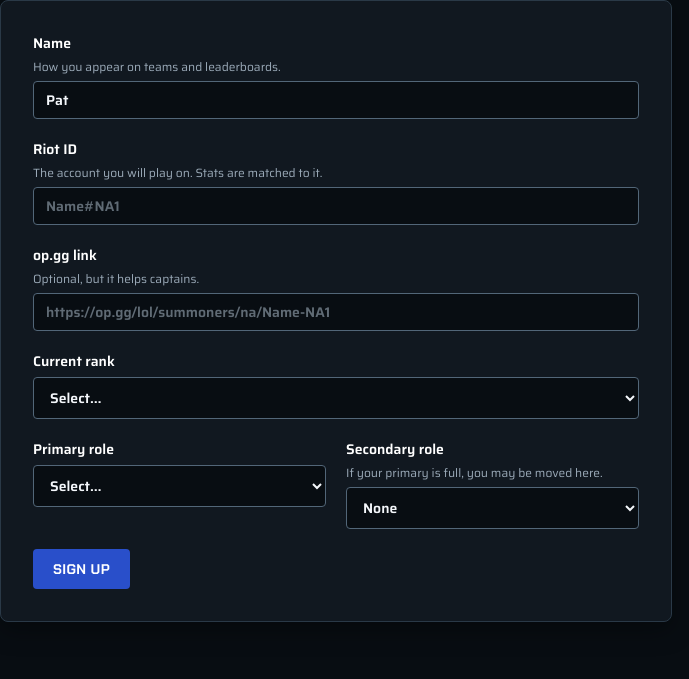
Test: OffseasonSignupForm › shows the server's reason when the sign-up is refused
The width and height of the screenshot is (689, 679).
Type "Pat Doe#NA1" into the field labelled "Riot ID" at (336, 206), box [33,187,639,225]
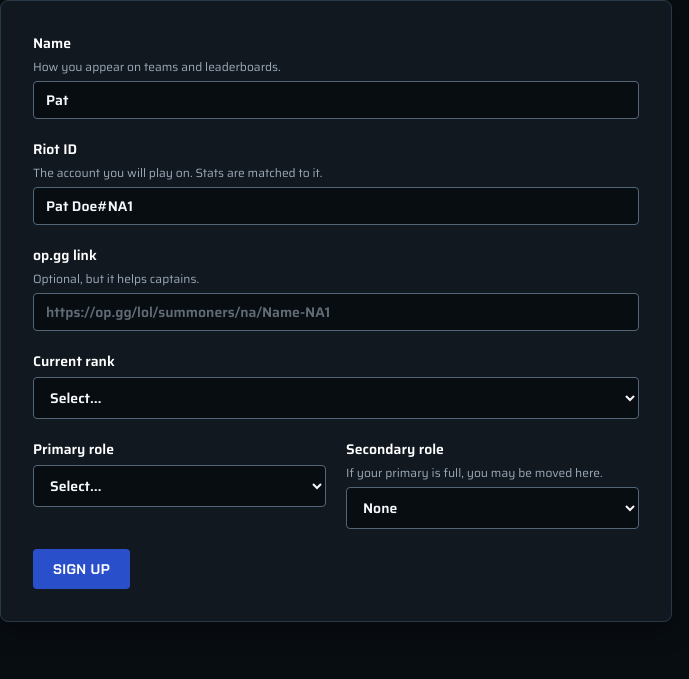
Select "Gold 2" in the dropdown labelled "Current rank" at (336, 398), box [33,377,639,419]
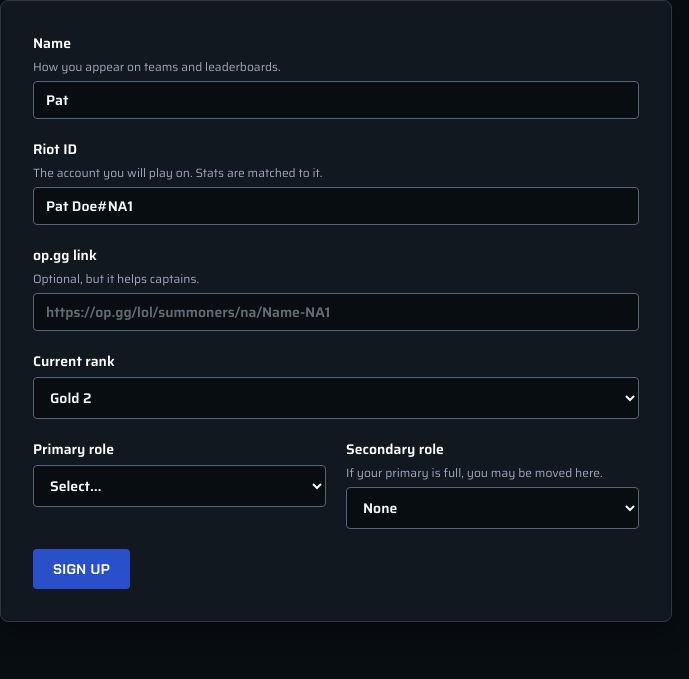
Select "Mid" in the dropdown labelled "Primary role" at (180, 486), box [33,465,326,507]
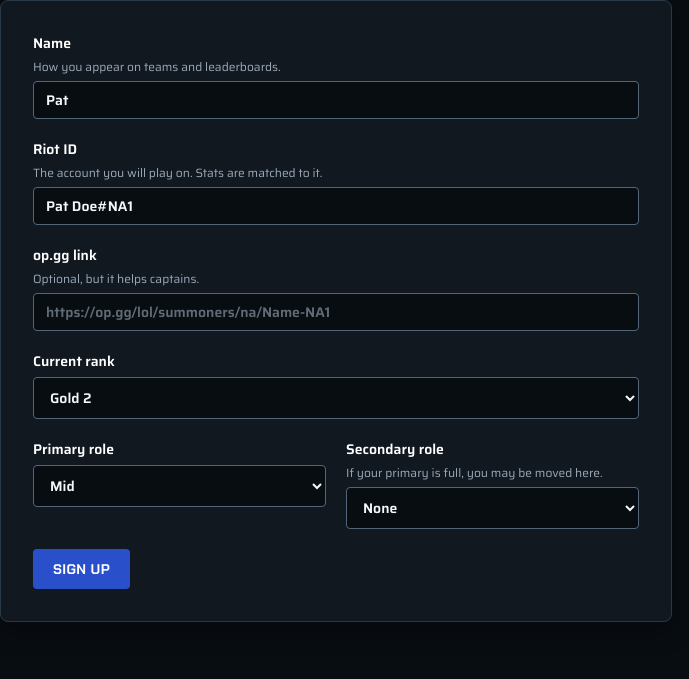
Select "Top" in the dropdown labelled "Secondary role" at (492, 508), box [346,487,639,529]
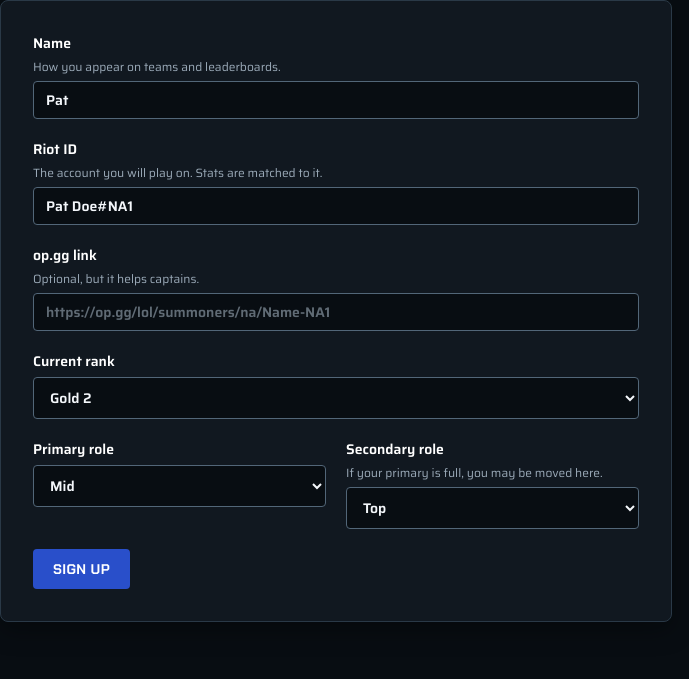
Click the button "Sign up" at (82, 569), box [33,549,130,589]
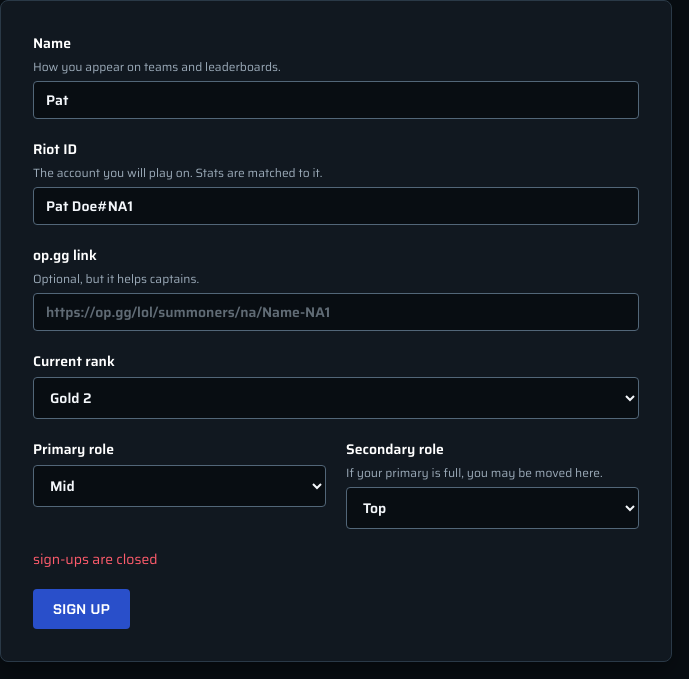
Result: the message reads "sign-ups are closed" at [33,548,158,570]
